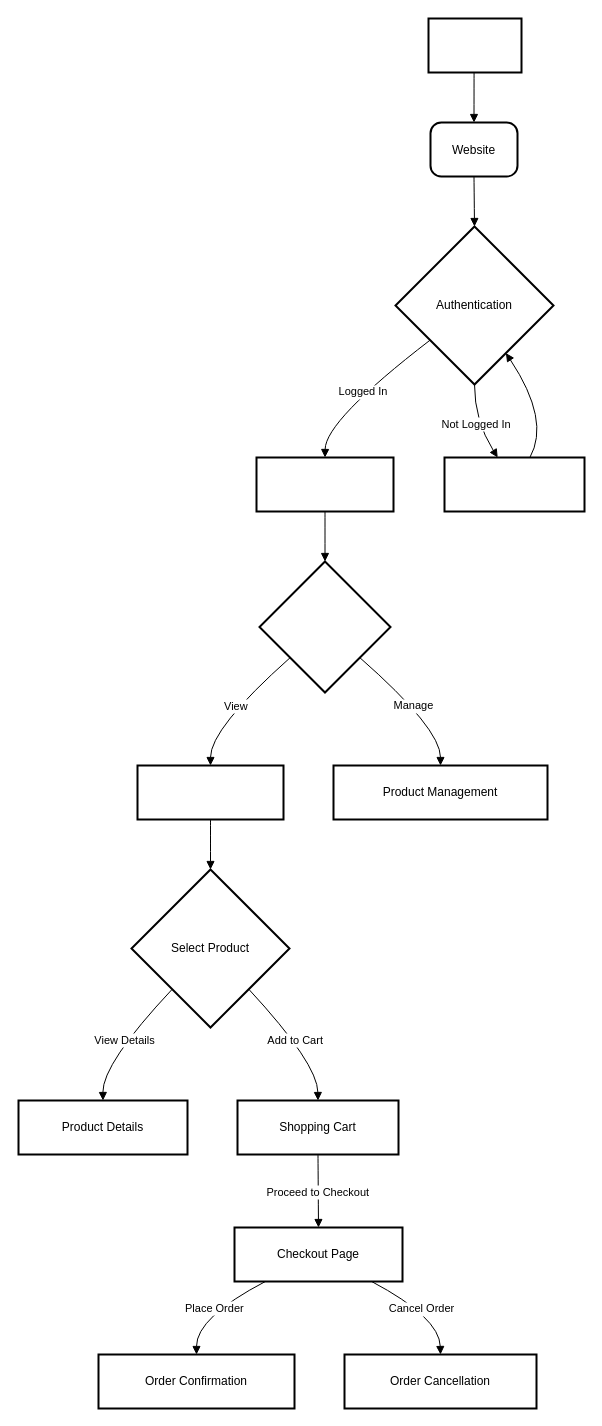
Some shapes in this 602 by 1426 pixel diagram are drawn without their labels. The centre of each missing label's shape, as x and y in pixels:
"Categories" goes at pixel 324 626.
"Dashboard" goes at pixel 324 484.
"Login Page" goes at pixel 514 484.
"Product List" goes at pixel 210 792.
"User" goes at pixel 474 45.
